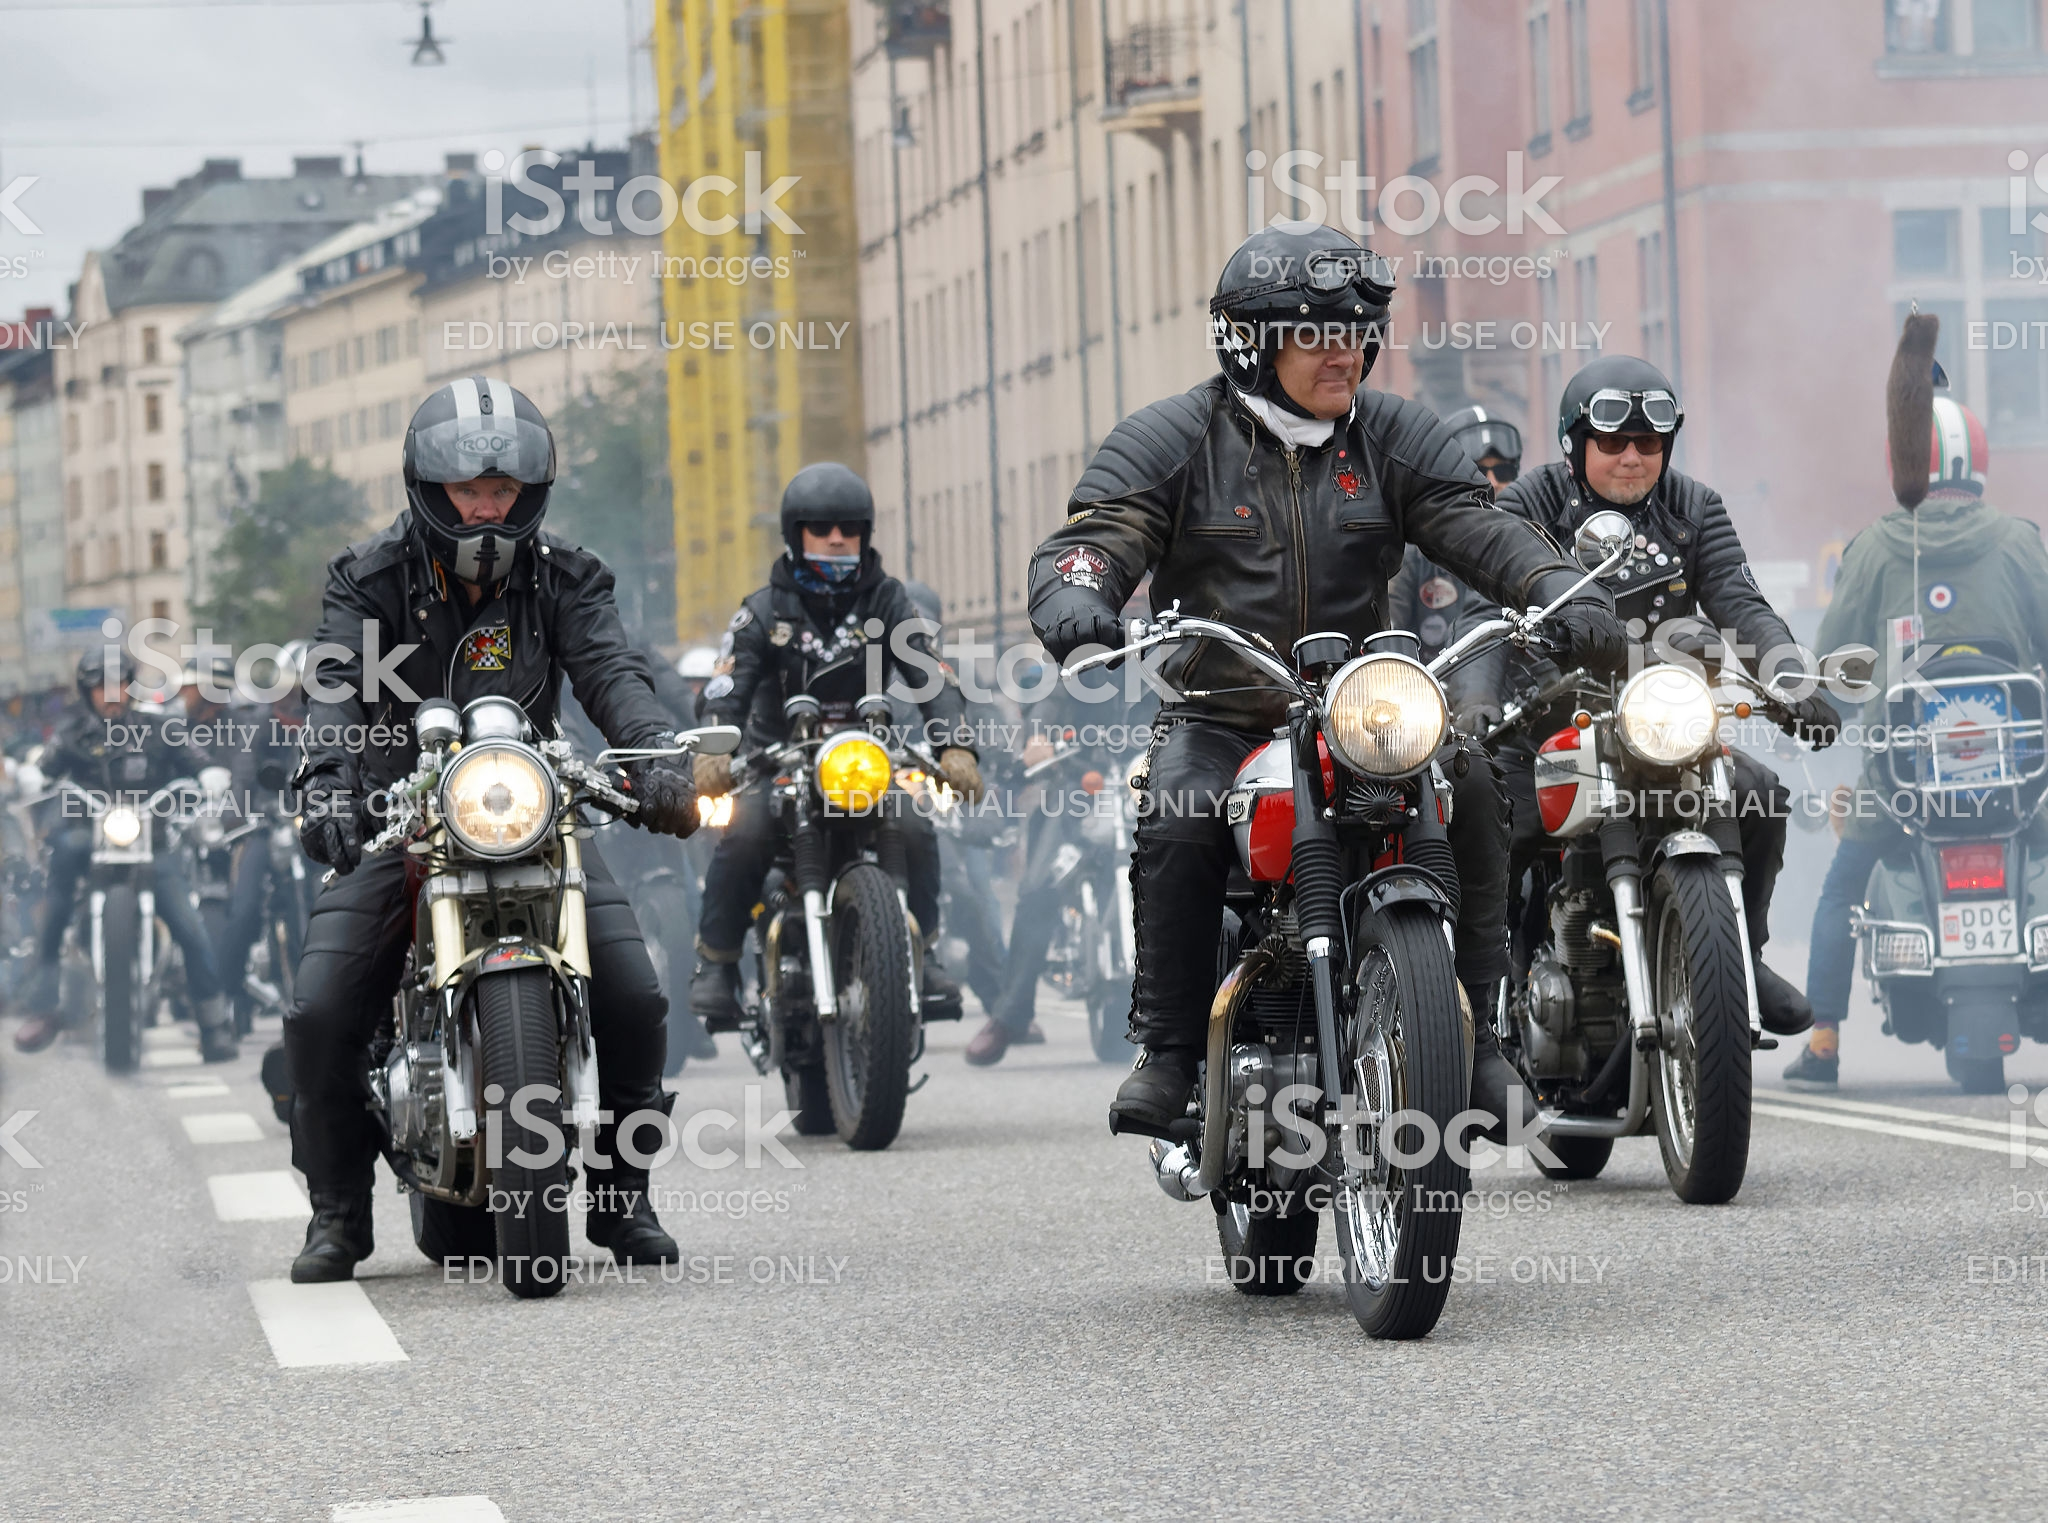helmet: (390, 374, 547, 546), (1213, 226, 1410, 362), (1562, 338, 1672, 450), (762, 446, 886, 544)
